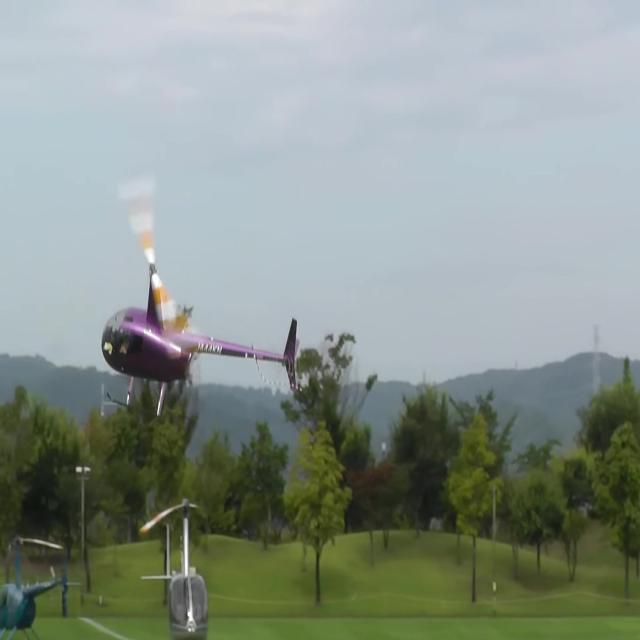CIV_HELO: (100, 261, 301, 423)
